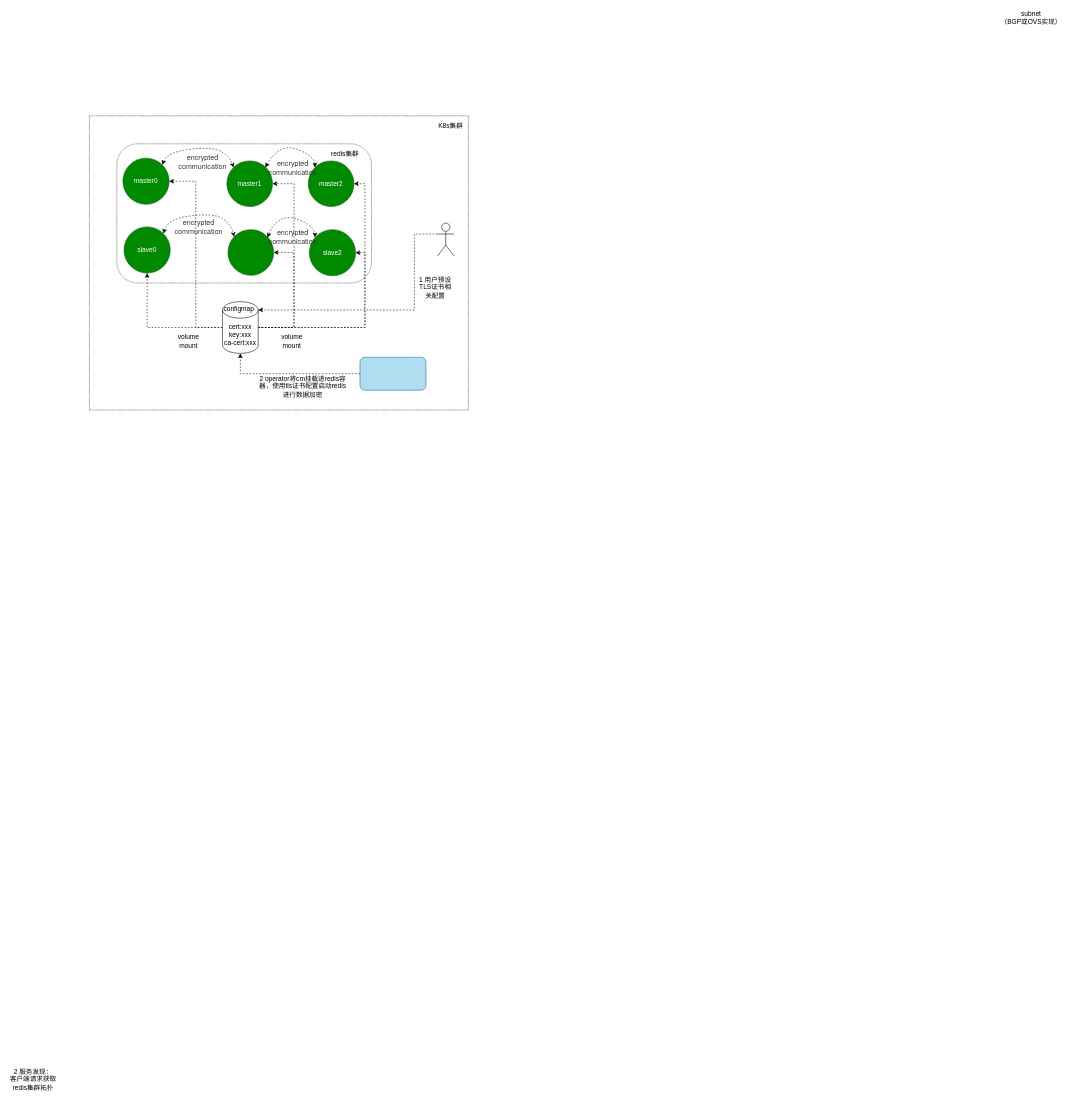
Some shapes in this 1073 by 1101 pixel diagram are drawn without their labels. Here are the shapes that lost their labels. From the top down, the box of each, then its label:
(227, 229, 274, 275): slave1
(437, 222, 454, 256): Actor
(359, 357, 426, 390): redis-operator
